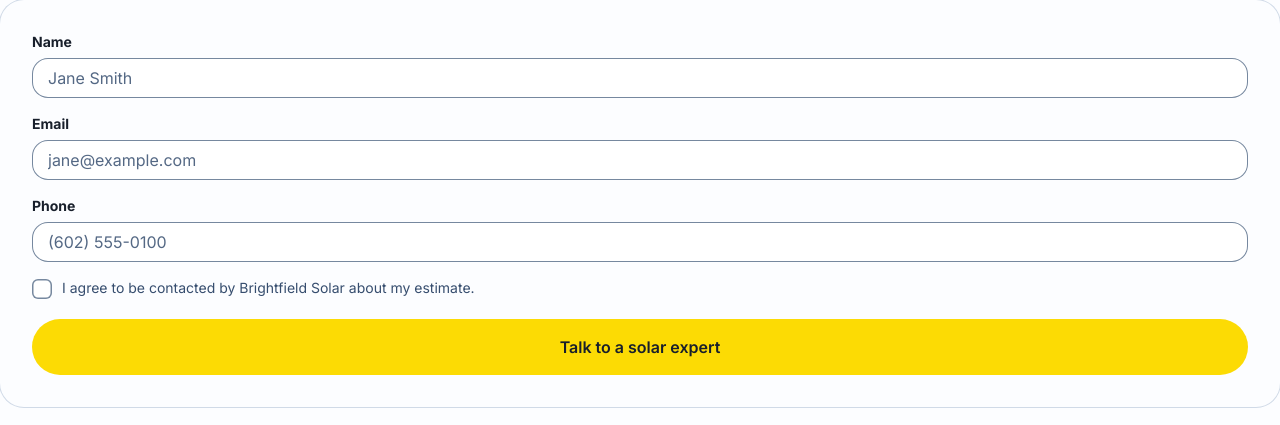
Scenario: LeadForm › formats the phone number as it is typed
Type "6025550100" into the field labelled "Phone" at (640, 242), box [32,222,1248,262]
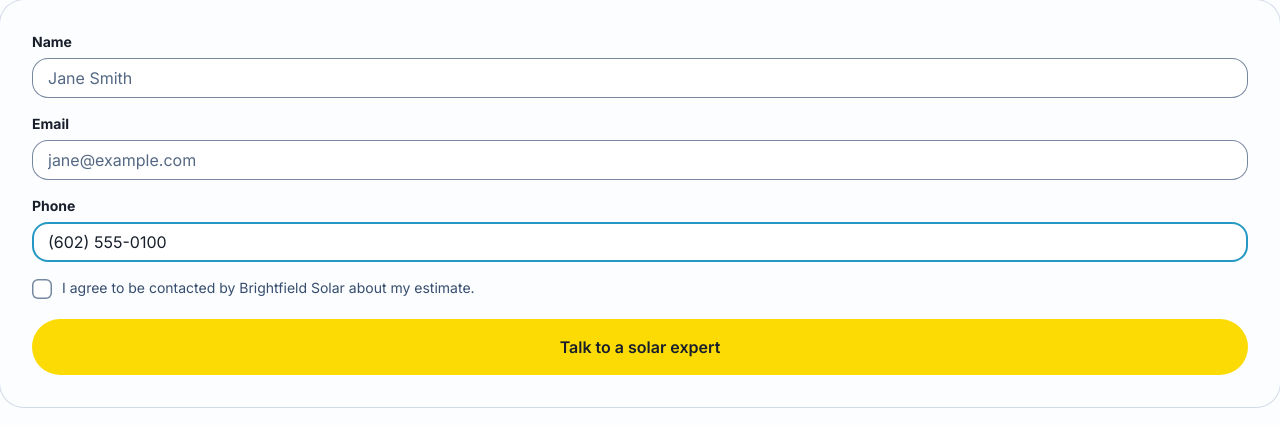
Expected: the field labelled "Phone" holds "(602) 555-0100", [32,222,1248,262]
